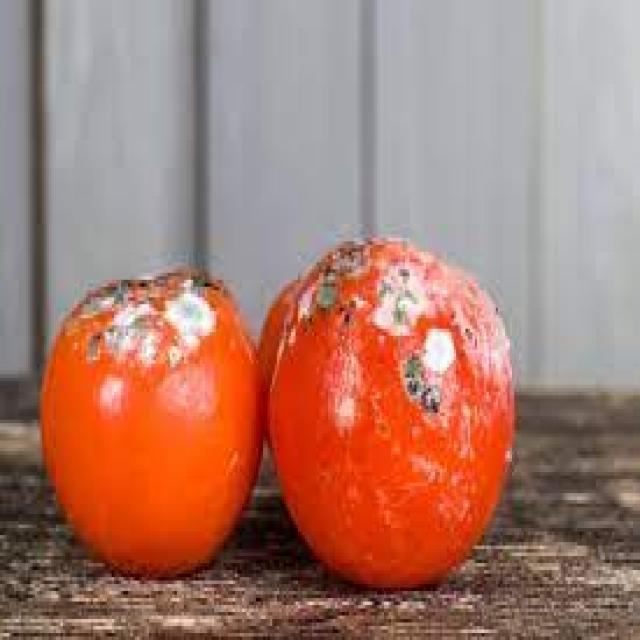overripe tomato: (268, 231, 516, 580), (43, 241, 260, 573)
